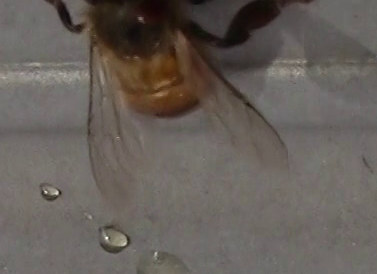Varroa destructor: (130, 1, 169, 23)
